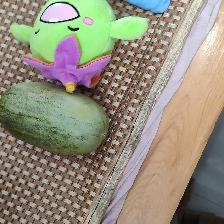gua: (5, 93, 100, 147)
